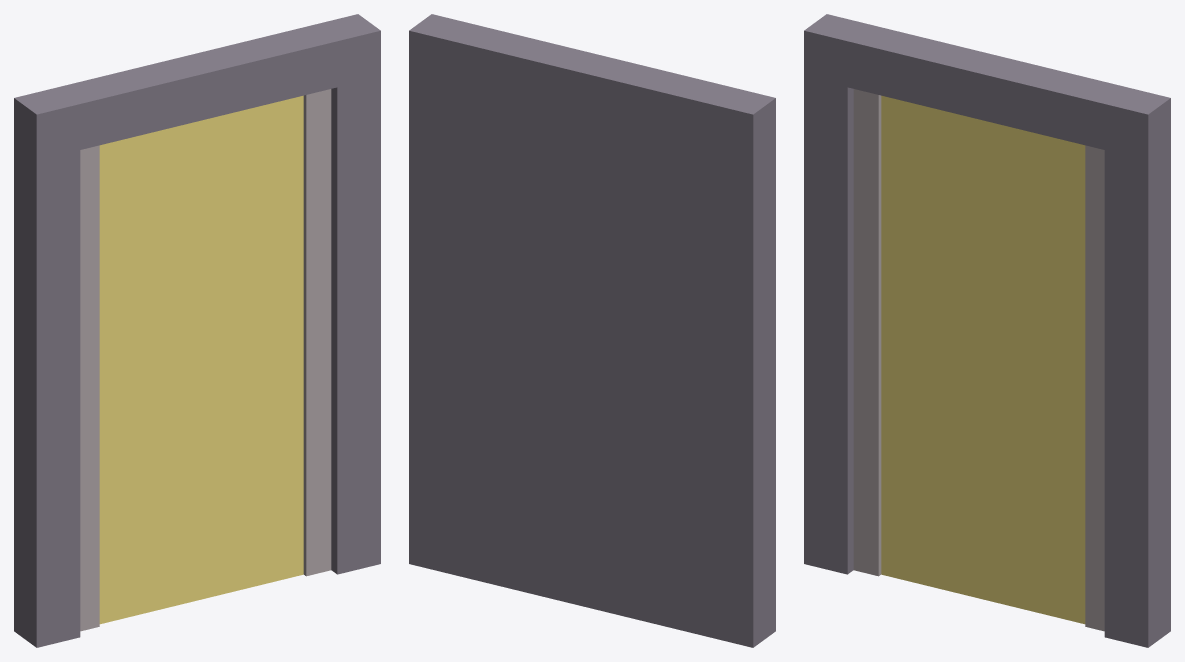
The model's file is elvevator door open fbx.fbx.
3 renders of one model, left to right at view 1: azimuth 30°, elevation 25°; view 2: azimuth 150°, elevation 25°; view 3: azimuth 330°, elevation 25°, orthographic.
Visible parts, largest first — view 1: pCube56; view 2: pCube56; view 3: pCube56.
Boxes of the visible parts, <box> form: pCube56: <box>14,14,380,647</box>; pCube56: <box>409,14,775,647</box>; pCube56: <box>804,14,1170,647</box>.
Size of the model in its own units: 13.86 by 20.52 by 1.59.
